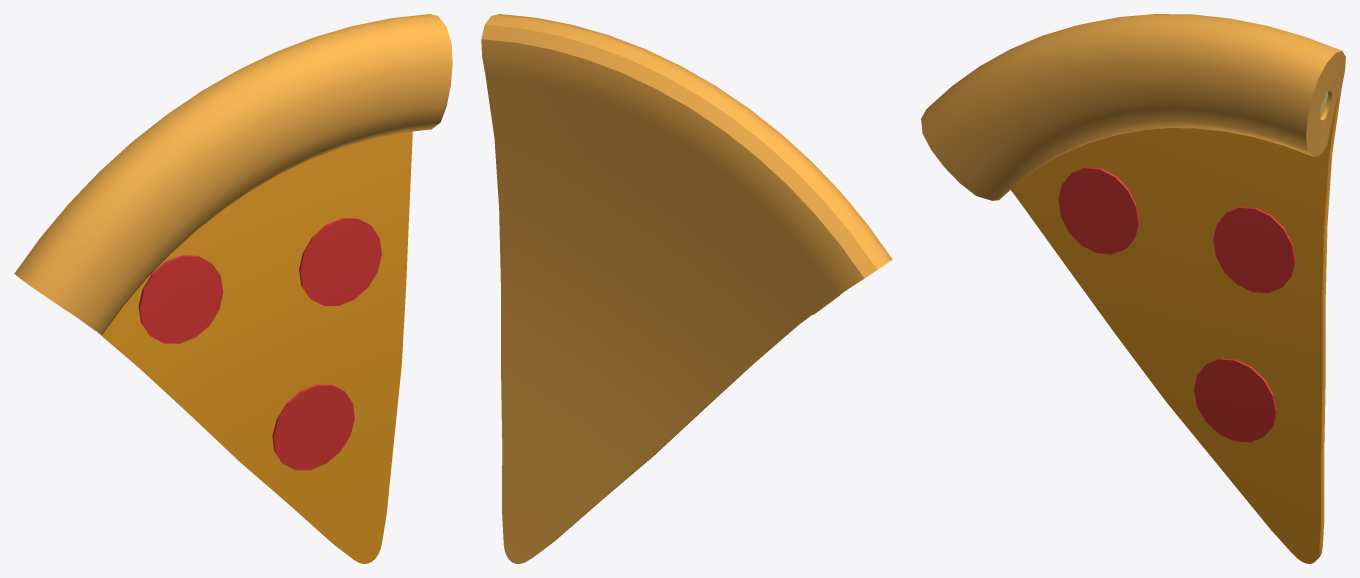
Rendered from pizza.glb.
The picture shows the model from 3 angles, left to right: view 1: azimuth 30°, elevation 25°; view 2: azimuth 150°, elevation 25°; view 3: azimuth 330°, elevation 25°; orthographic projection. The views are drawn at different scales.
Parts seen in each view (by area): view 1: Circle.2210; view 2: Circle.2210; view 3: Circle.2210.
Part boxes in pixels (x1,y1,x2,y2): Circle.2210: (14,14,452,563); Circle.2210: (481,14,892,563); Circle.2210: (921,14,1345,563).
Size of the model in its own units: 1.87 by 2.37 by 0.3502.
1 material, 1 textured.
